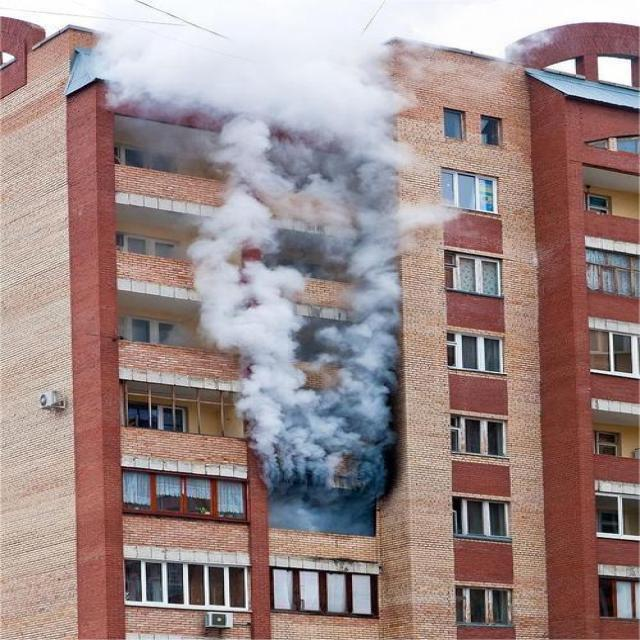Smoke: (196, 120, 407, 500), (93, 0, 414, 122)
